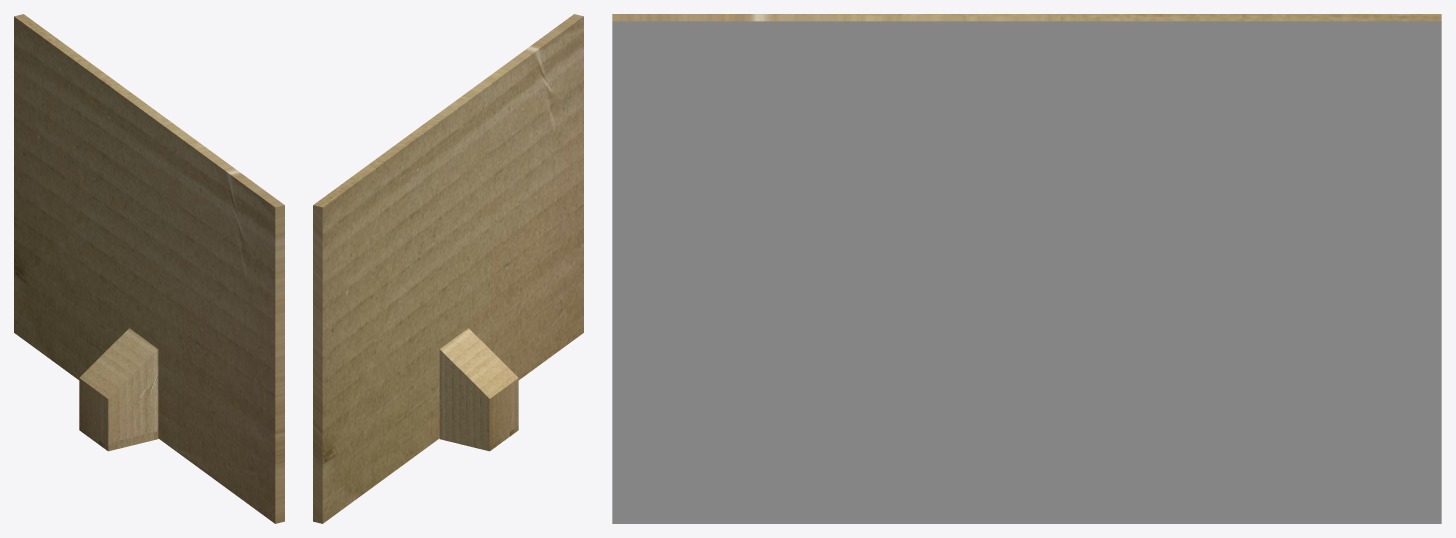
Rendered from problem.fbx.
3 renders of one model, left to right at view 1: azimuth 30°, elevation 25°; view 2: azimuth 150°, elevation 25°; view 3: azimuth 270°, elevation 25°, orthographic. The views are drawn at different scales.
Visible parts, largest first — view 1: polySurface1; view 2: polySurface1; view 3: polySurface1.
Boxes of the visible parts, left/top/right/bottom form: polySurface1: left=14, top=14, right=284, bottom=523; polySurface1: left=313, top=14, right=583, bottom=523; polySurface1: left=612, top=14, right=1441, bottom=523.
Size of the model in its own units: 0.8432 by 4.21 by 6.3.
